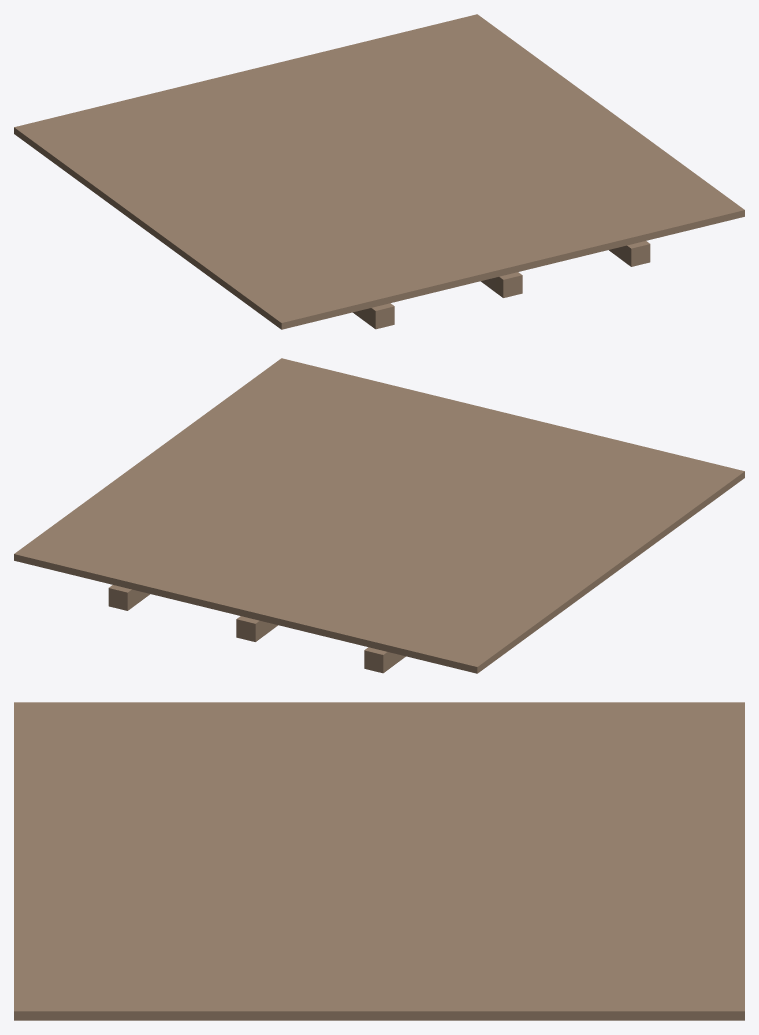
The model's file is Kit_RealKeep_Floor_Fractured.fbx.
The picture shows the model from 3 angles, top to bottom: view 1: azimuth 30°, elevation 25°; view 2: azimuth 150°, elevation 25°; view 3: azimuth 270°, elevation 25°; orthographic projection. The views are drawn at different scales.
Parts seen in each view (by area): view 1: Kit_RealKeep_Floor_frag_03, Kit_RealKeep_Floor_frag_05, Kit_RealKeep_Floor_frag_16, Kit_RealKeep_Floor_frag_12, Kit_RealKeep_Floor_frag_01, Kit_RealKeep_Floor_frag_09, Kit_RealKeep_Floor_frag_14, Kit_RealKeep_Floor_frag_11, Kit_RealKeep_Floor_frag_06; view 2: Kit_RealKeep_Floor_frag_05, Kit_RealKeep_Floor_frag_03, Kit_RealKeep_Floor_frag_16, Kit_RealKeep_Floor_frag_11, Kit_RealKeep_Floor_frag_09, Kit_RealKeep_Floor_frag_14, Kit_RealKeep_Floor_frag_12, Kit_RealKeep_Floor_frag_01; view 3: Kit_RealKeep_Floor_frag_16, Kit_RealKeep_Floor_frag_03, Kit_RealKeep_Floor_frag_05, Kit_RealKeep_Floor_frag_14, Kit_RealKeep_Floor_frag_09, Kit_RealKeep_Floor_frag_12, Kit_RealKeep_Floor_frag_11, Kit_RealKeep_Floor_frag_01.
Boxes of the visible parts, x1,y1,x2,y2 form: Kit_RealKeep_Floor_frag_03: [147, 168, 468, 296]; Kit_RealKeep_Floor_frag_05: [14, 89, 286, 230]; Kit_RealKeep_Floor_frag_16: [324, 14, 594, 148]; Kit_RealKeep_Floor_frag_12: [454, 165, 744, 272]; Kit_RealKeep_Floor_frag_01: [236, 233, 514, 329]; Kit_RealKeep_Floor_frag_09: [258, 105, 530, 221]; Kit_RealKeep_Floor_frag_14: [457, 100, 683, 214]; Kit_RealKeep_Floor_frag_11: [170, 51, 396, 153]; Kit_RealKeep_Floor_frag_06: [481, 272, 522, 297]; Kit_RealKeep_Floor_frag_05: [322, 543, 610, 673]; Kit_RealKeep_Floor_frag_03: [378, 447, 699, 575]; Kit_RealKeep_Floor_frag_16: [14, 468, 299, 610]; Kit_RealKeep_Floor_frag_11: [167, 538, 409, 641]; Kit_RealKeep_Floor_frag_09: [241, 440, 454, 564]; Kit_RealKeep_Floor_frag_14: [132, 403, 389, 493]; Kit_RealKeep_Floor_frag_12: [221, 358, 511, 458]; Kit_RealKeep_Floor_frag_01: [467, 414, 744, 510]; Kit_RealKeep_Floor_frag_16: [381, 909, 744, 1020]; Kit_RealKeep_Floor_frag_03: [137, 702, 423, 857]; Kit_RealKeep_Floor_frag_05: [381, 702, 744, 805]; Kit_RealKeep_Floor_frag_14: [137, 909, 423, 1020]; Kit_RealKeep_Floor_frag_09: [180, 806, 545, 908]; Kit_RealKeep_Floor_frag_12: [14, 857, 179, 1020]; Kit_RealKeep_Floor_frag_11: [503, 806, 744, 908]; Kit_RealKeep_Floor_frag_01: [14, 702, 179, 857].
Size of what is drawn, in the model's own units: 5.8 by 0.35 by 5.8.
